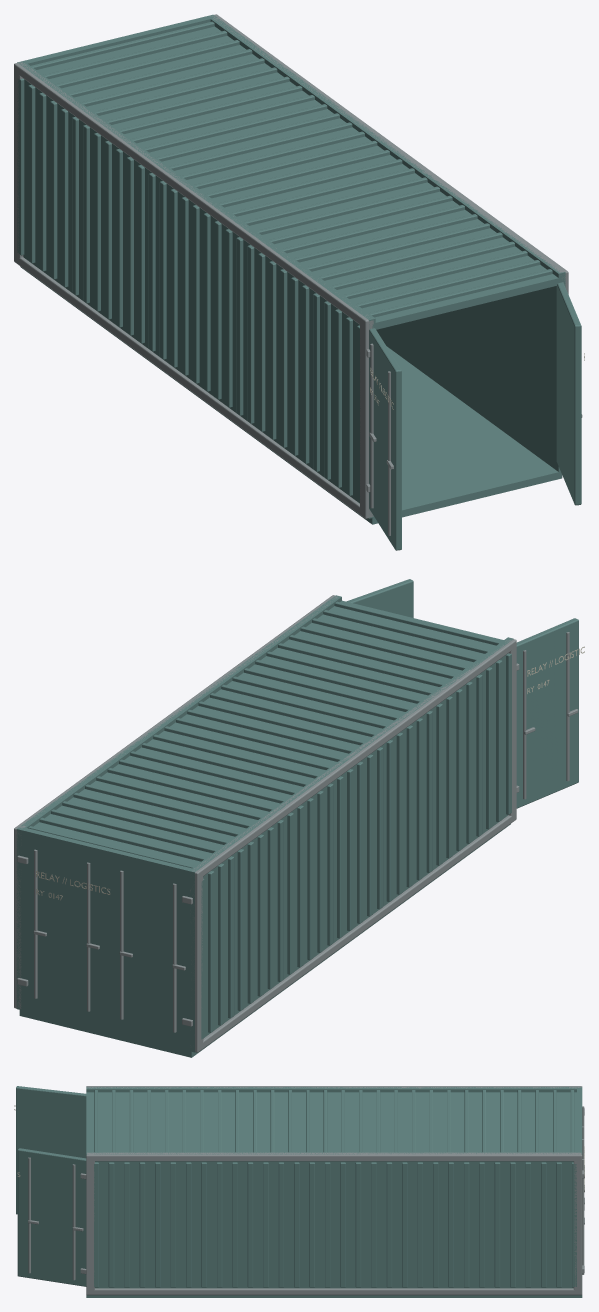
The model's file is relay-container.glb.
3 renders of one model, top to bottom at view 1: azimuth 30°, elevation 25°; view 2: azimuth 150°, elevation 25°; view 3: azimuth 270°, elevation 25°, orthographic. The views are drawn at different scales.
Visible parts, largest first — view 1: relay-container, Container roof, Container left wall, Container right wall, Container floor, Container left door, Container right door, Container rear wall; view 2: relay-container, Container roof, Container left wall, Container rear wall, Container left door, Container right wall, Container floor, Container right door; view 3: relay-container, Container right wall, Container roof, Container right door, Container left door, Container left wall, Container floor, Container rear wall.
Boxes of the visible parts, left/top/right/bottom form: relay-container: left=14, top=14, right=568, bottom=518; Container roof: left=36, top=26, right=562, bottom=329; Container left wall: left=17, top=61, right=375, bottom=518; Container right wall: left=207, top=14, right=565, bottom=472; Container floor: left=20, top=266, right=562, bottom=524; Container left door: left=366, top=328, right=401, bottom=550; Container right door: left=556, top=282, right=584, bottom=505; Container rear wall: left=21, top=15, right=212, bottom=65; relay-container: left=14, top=595, right=516, bottom=1052; Container roof: left=20, top=600, right=503, bottom=880; Container left wall: left=188, top=637, right=513, bottom=1052; Container rear wall: left=19, top=827, right=194, bottom=1050; Container left door: left=516, top=618, right=584, bottom=808; Container right wall: left=16, top=595, right=341, bottom=1009; Container floor: left=19, top=824, right=510, bottom=1057; Container right door: left=346, top=579, right=413, bottom=617; relay-container: left=86, top=1086, right=584, bottom=1295; Container right wall: left=86, top=1152, right=582, bottom=1288; Container roof: left=86, top=1092, right=576, bottom=1152; Container right door: left=17, top=1148, right=86, bottom=1286; Container left door: left=14, top=1086, right=86, bottom=1214; Container left wall: left=86, top=1087, right=582, bottom=1092; Container floor: left=86, top=1295, right=582, bottom=1297; Container rear wall: left=577, top=1088, right=582, bottom=1152.
Size of what is drawn, in the model's own units: 3.35 by 2.9 by 10.36.
